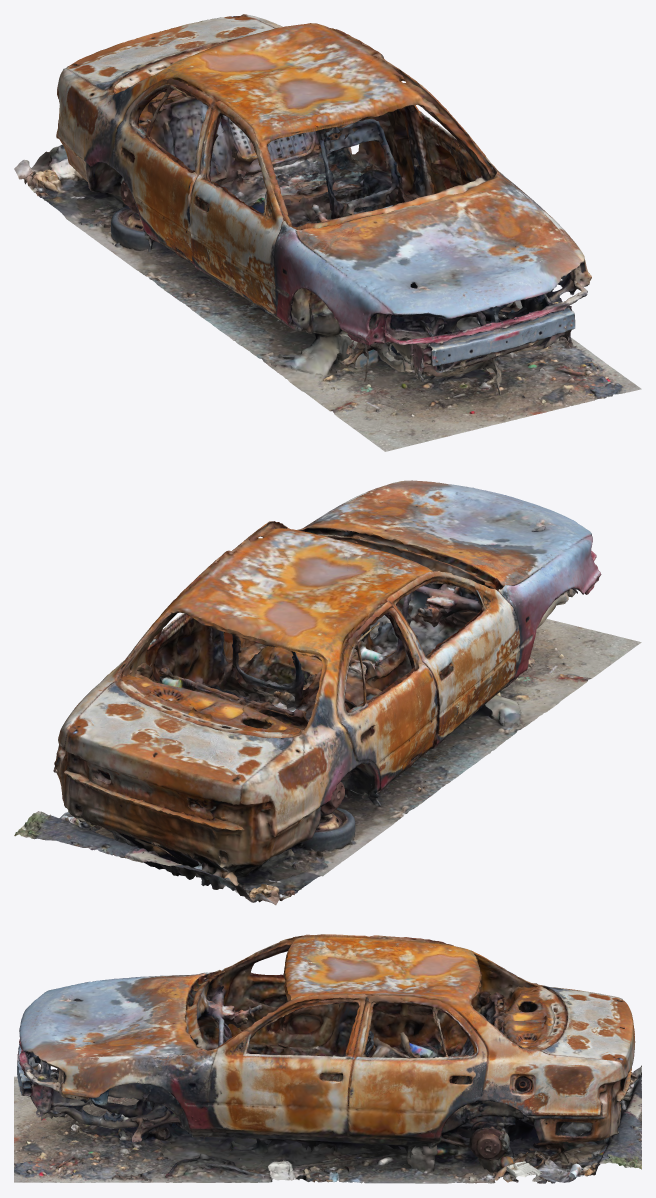
The model's file is voiture_brulee.glb.
The picture shows the model from 3 angles, top to bottom: view 1: azimuth 30°, elevation 25°; view 2: azimuth 150°, elevation 25°; view 3: azimuth 270°, elevation 25°; orthographic projection. The views are drawn at different scales.
Parts seen in each view (by area): view 1: burnt_car; view 2: burnt_car; view 3: burnt_car.
Part boxes in pixels (box(x1,y1,x2,y2)): burnt_car: box(14, 14, 641, 451); burnt_car: box(14, 480, 641, 905); burnt_car: box(14, 934, 641, 1183).
Size of the model in its own units: 2.46 by 1.81 by 6.16.
1 material, 1 textured.
